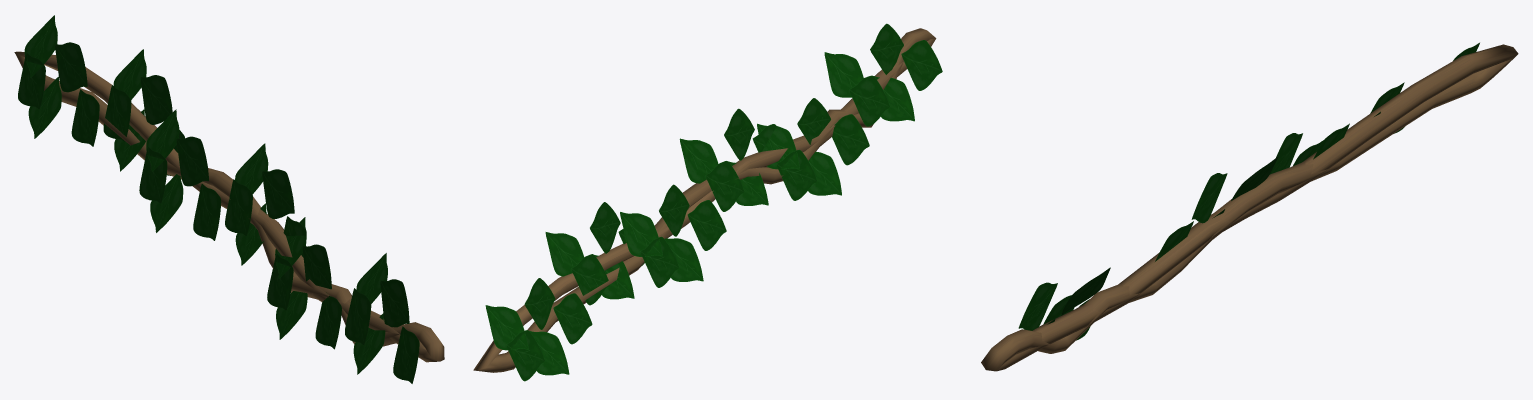
The model's file is bar.fbx.
The picture shows the model from 3 angles, left to right: view 1: azimuth 30°, elevation 25°; view 2: azimuth 150°, elevation 25°; view 3: azimuth 330°, elevation 25°; orthographic projection. The views are drawn at different scales.
Parts seen in each view (by area): view 1: tree.002; view 2: tree.002; view 3: tree.002.
Boxes of the visible parts, bbox=[...] form: tree.002: bbox=[14, 15, 444, 383]; tree.002: bbox=[473, 23, 942, 381]; tree.002: bbox=[981, 42, 1518, 371].
Size of the model in its own units: 26.21 by 34.62 by 226.
